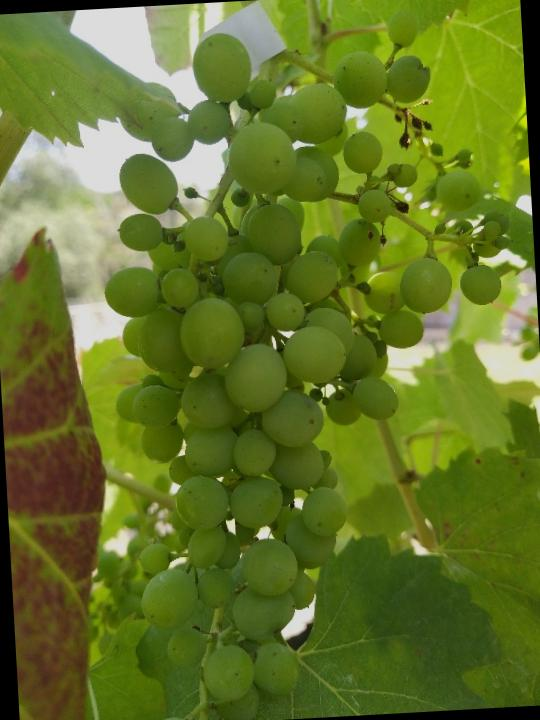grape: (89, 4, 536, 720)
